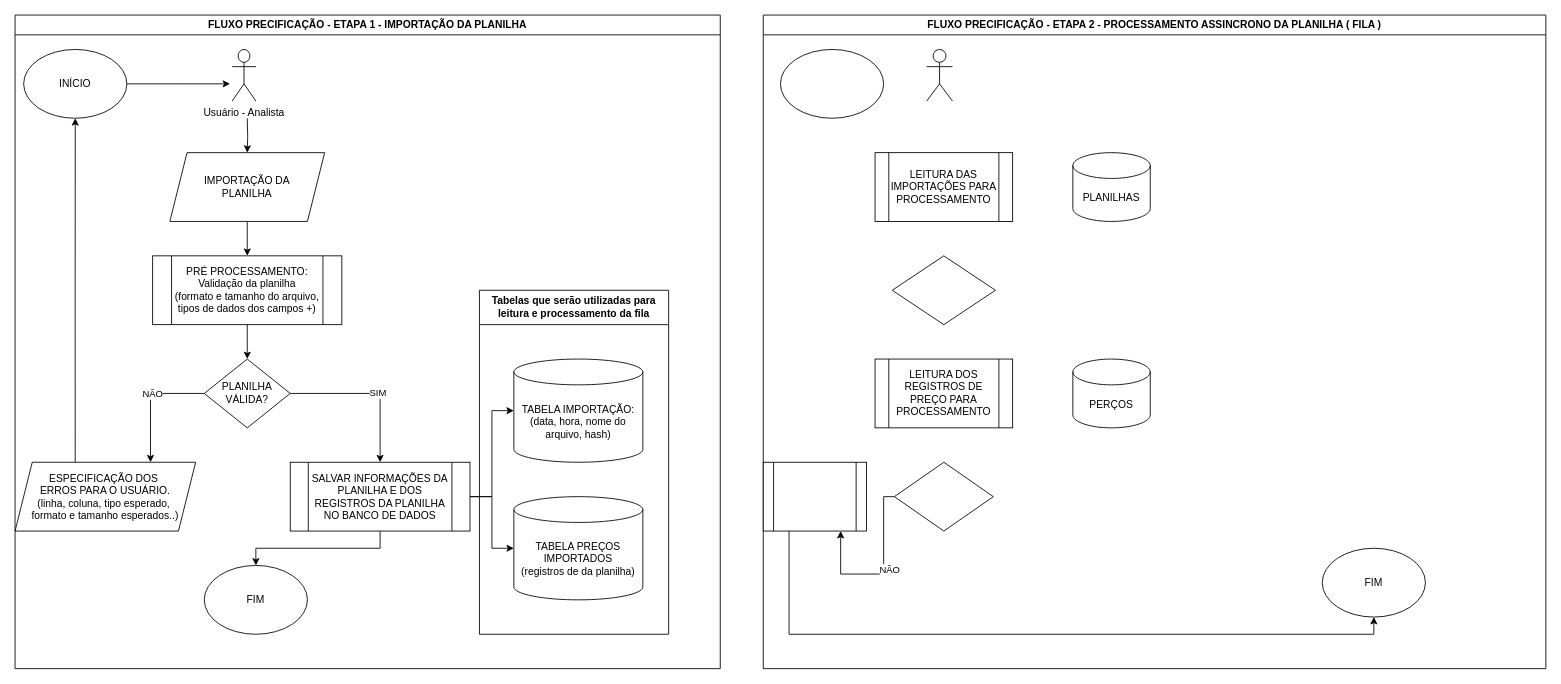
Image size: 1561x684. Some labels were removed from this diagram. The shapes that lost their labels are listed below. From the top down, each one's centre as x and y in pixels, then its label:
point (832, 83): INICIO
point (939, 75): CRON - WORKER
point (943, 290): EXISTE ALGUMA?
point (814, 496): LOGAR ERRO
point (943, 496): EXISTE ALGUM?
